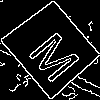M: (26, 24, 89, 85)
